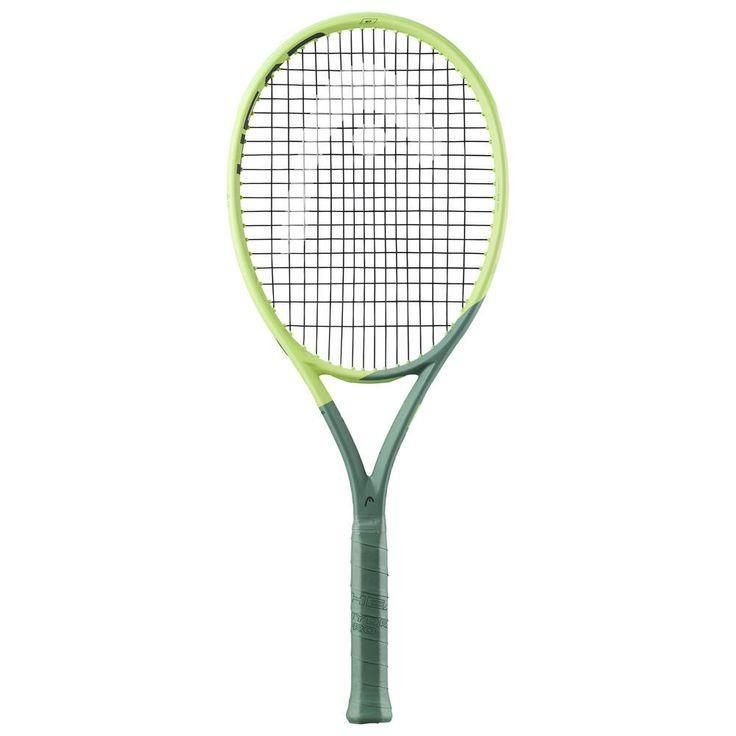Tennis-Racket: (225, 11, 505, 719)
